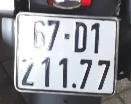1: (57, 55, 72, 88), (40, 55, 53, 86), (90, 23, 101, 54)
2: (21, 54, 37, 90)
6: (33, 19, 46, 48)
7: (96, 57, 111, 91), (80, 59, 94, 90), (47, 20, 60, 50)
D: (71, 21, 89, 53)
